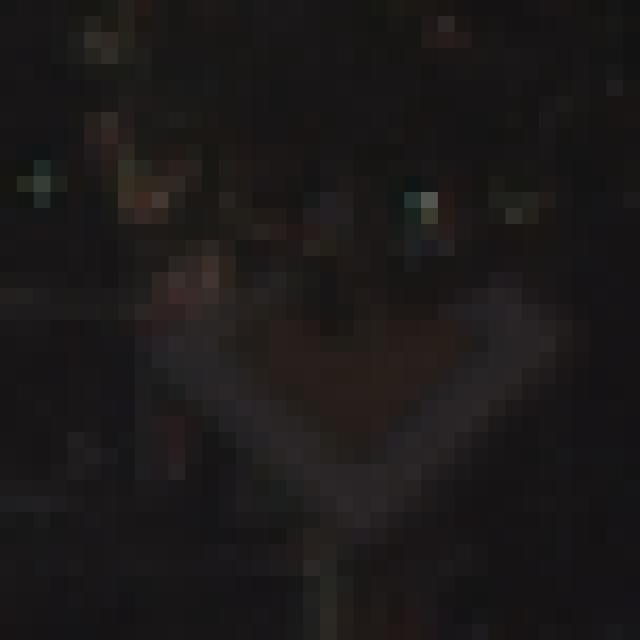Main Road: (85, 81, 557, 561)
